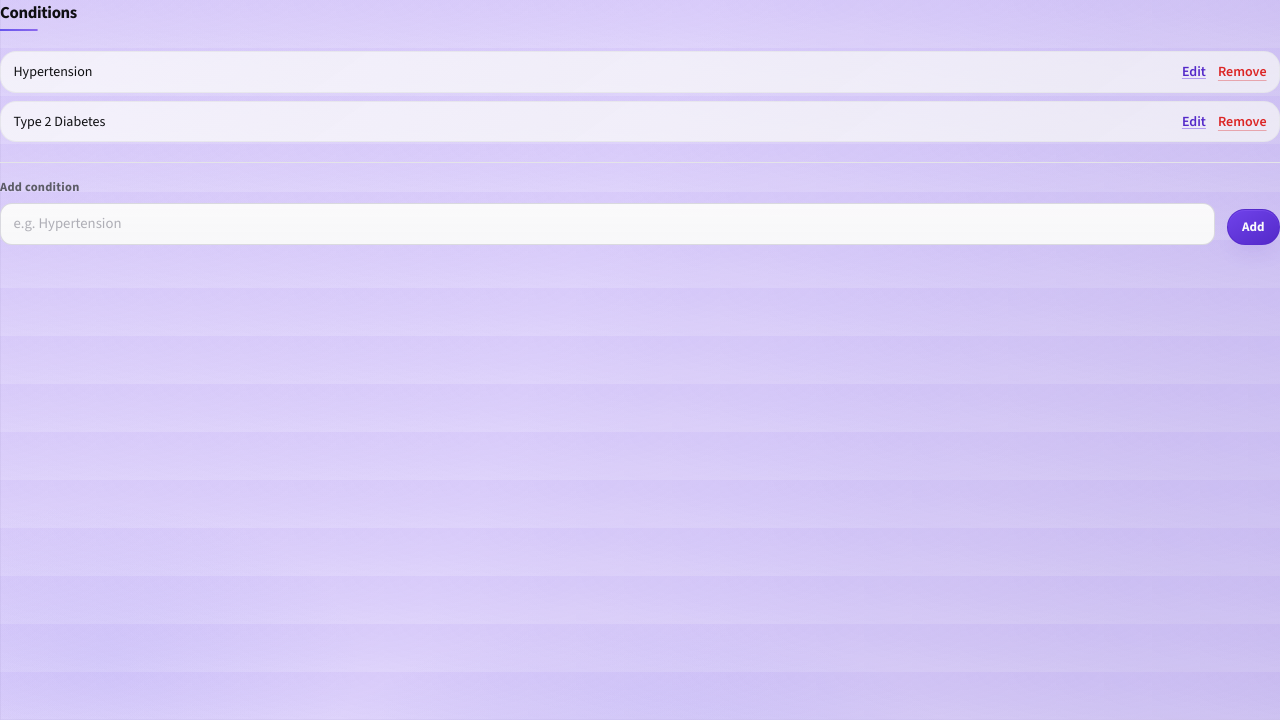
Test: ConditionsTab › Save edit PATCHes the condition and returns to read-only
Check: the text "Hypertension" is shown, box [14,62,92,81]
Click the button "Edit" in the row of "Hypertension".
click(1194, 72)  # box [1182,62,1206,82]
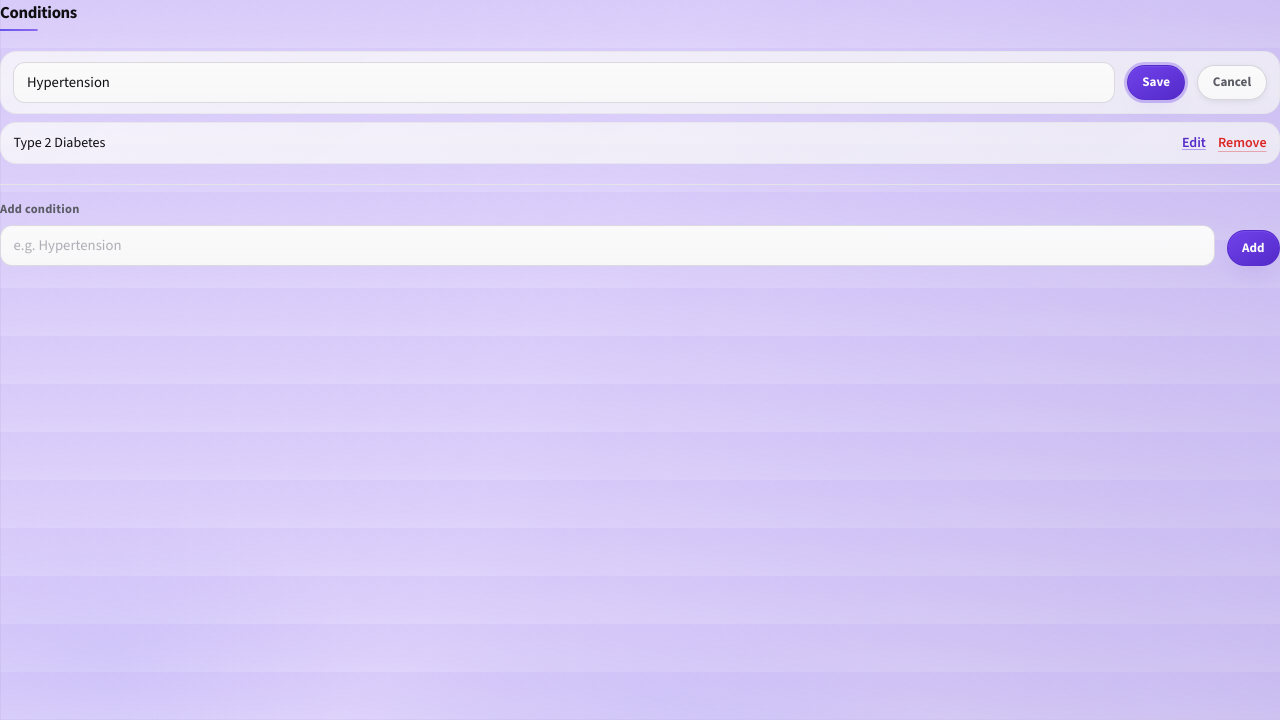
Replace the text in the field showing "Hypertension" with "Hypertension (controlled)" at {"x": 564, "y": 82}, box [14,62,1115,103]
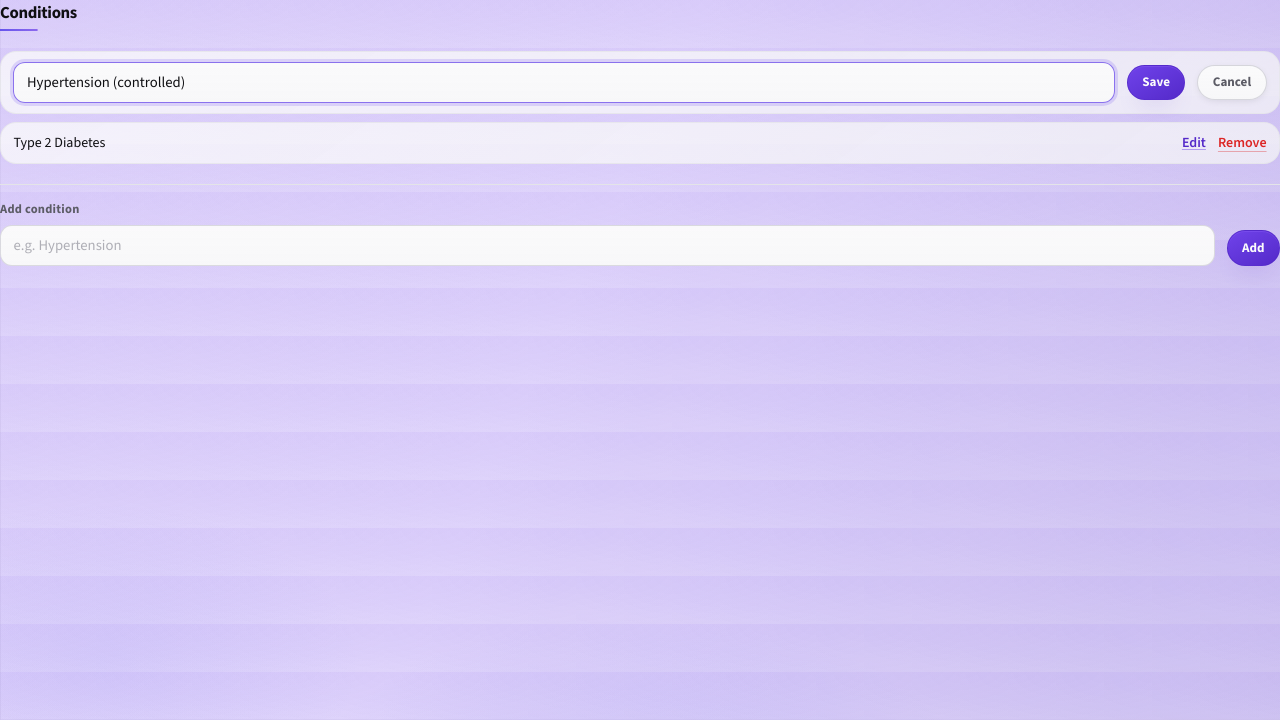
Click the button "Save".
click(1156, 82)  # box [1127,65,1185,100]
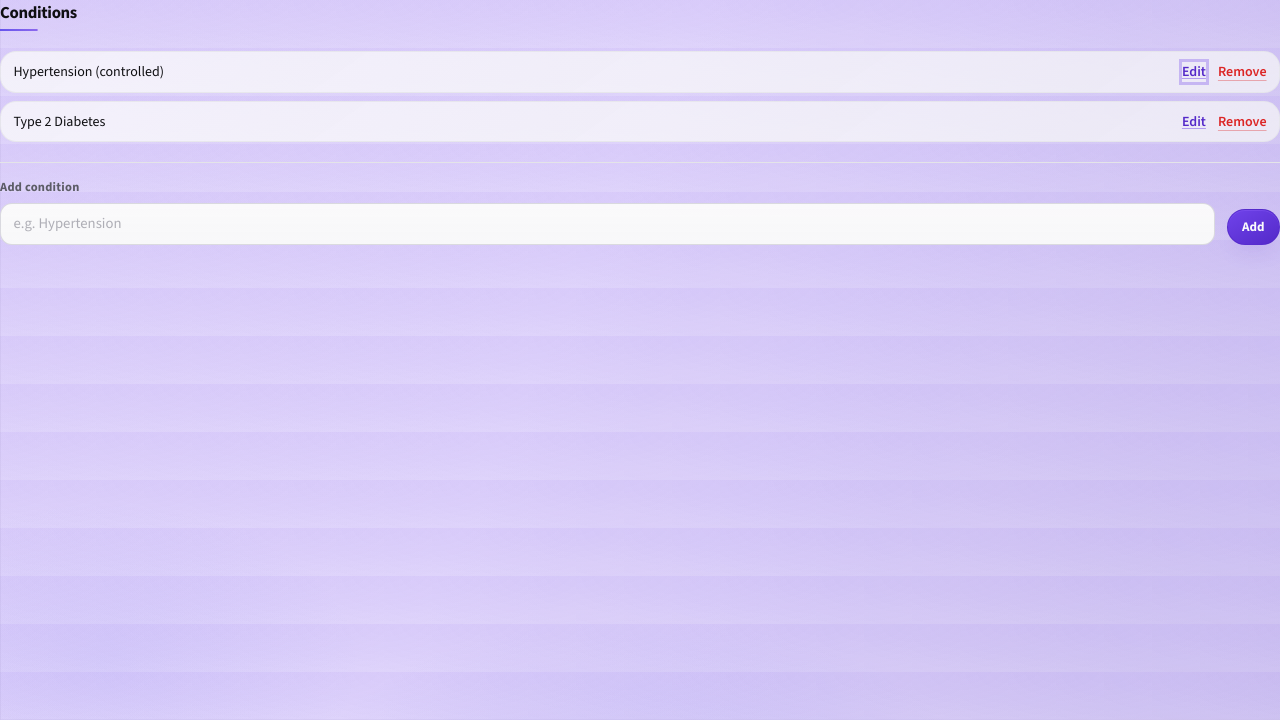
Check: the text "Hypertension (controlled)" is shown, box [14,62,164,81]
